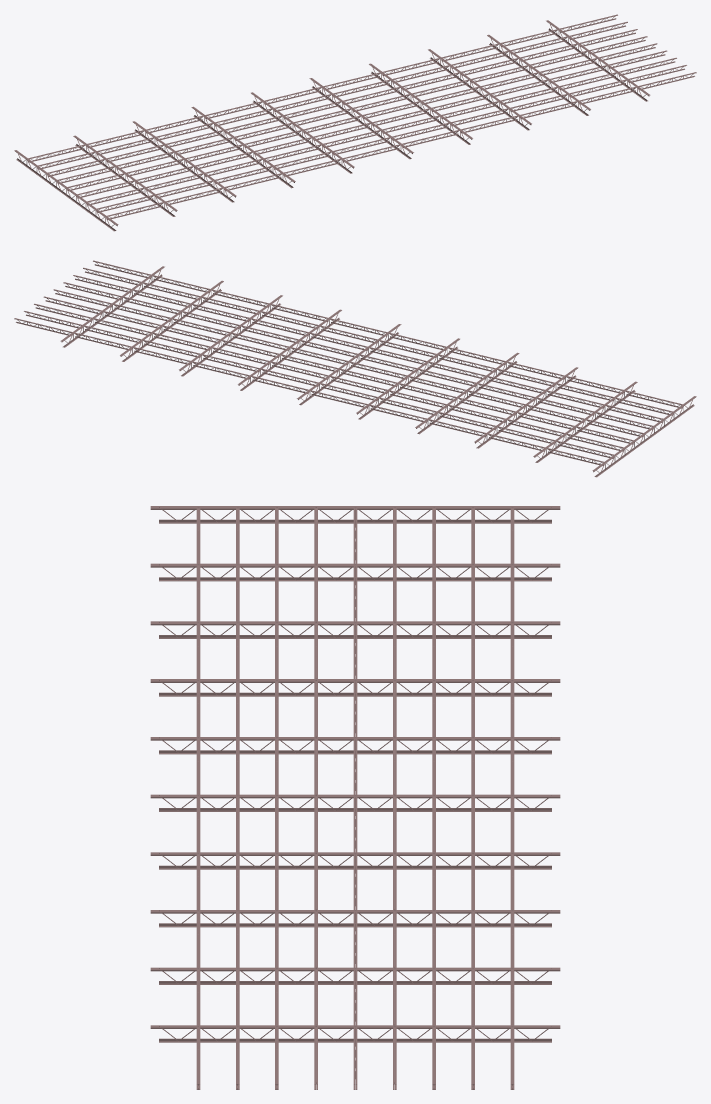
Rendered from Elements_Joist.glb.
3 views of the same model, one above another, from view 1: azimuth 30°, elevation 25°; view 2: azimuth 150°, elevation 25°; view 3: azimuth 270°, elevation 25° (orthographic). The views are drawn at different scales.
Visible parts, largest first — view 1: 0ae087d8-45e7-4554-b009-5e640a6f1f6f_mesh (×10); view 2: 0ae087d8-45e7-4554-b009-5e640a6f1f6f_mesh (×10); view 3: 0ae087d8-45e7-4554-b009-5e640a6f1f6f_mesh (×10).
Part boxes in pixels (<box>): 0ae087d8-45e7-4554-b009-5e640a6f1f6f_mesh (×10): <box>14,20,650,231</box>; 0ae087d8-45e7-4554-b009-5e640a6f1f6f_mesh (×10): <box>60,266,696,477</box>; 0ae087d8-45e7-4554-b009-5e640a6f1f6f_mesh (×10): <box>150,506,560,1042</box>.
Bounding box in the file's own units: 100 × 1.26 × 30.
